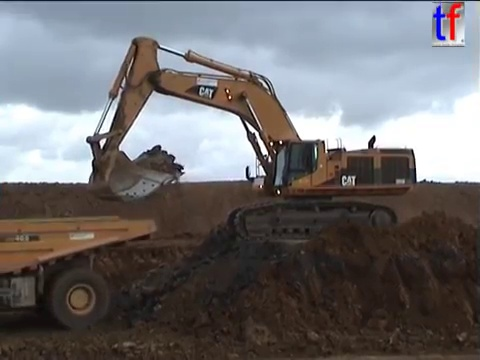excavator: (83, 33, 420, 243)
truck: (1, 212, 160, 333)
